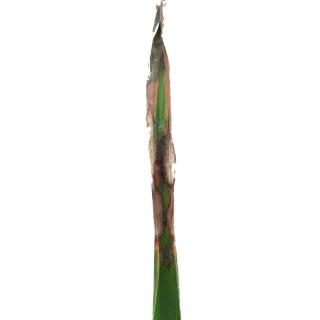Hawar-Daun: (147, 134, 183, 274), (142, 32, 161, 124), (158, 23, 172, 128)
